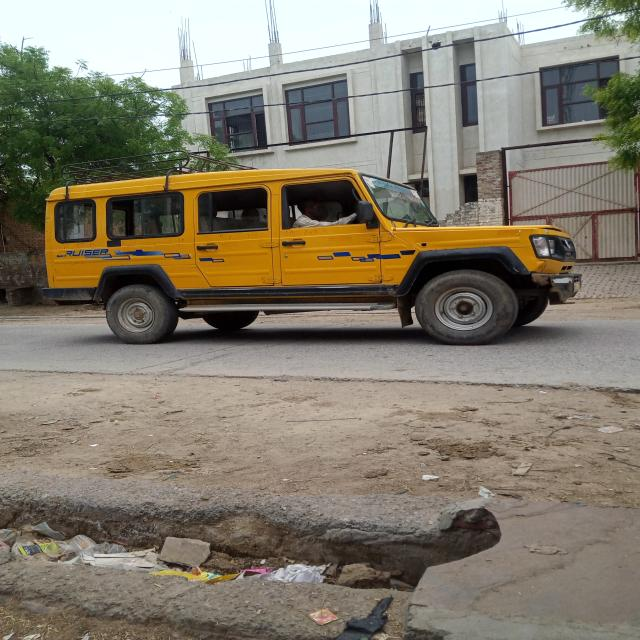Car: (45, 169, 582, 345)
